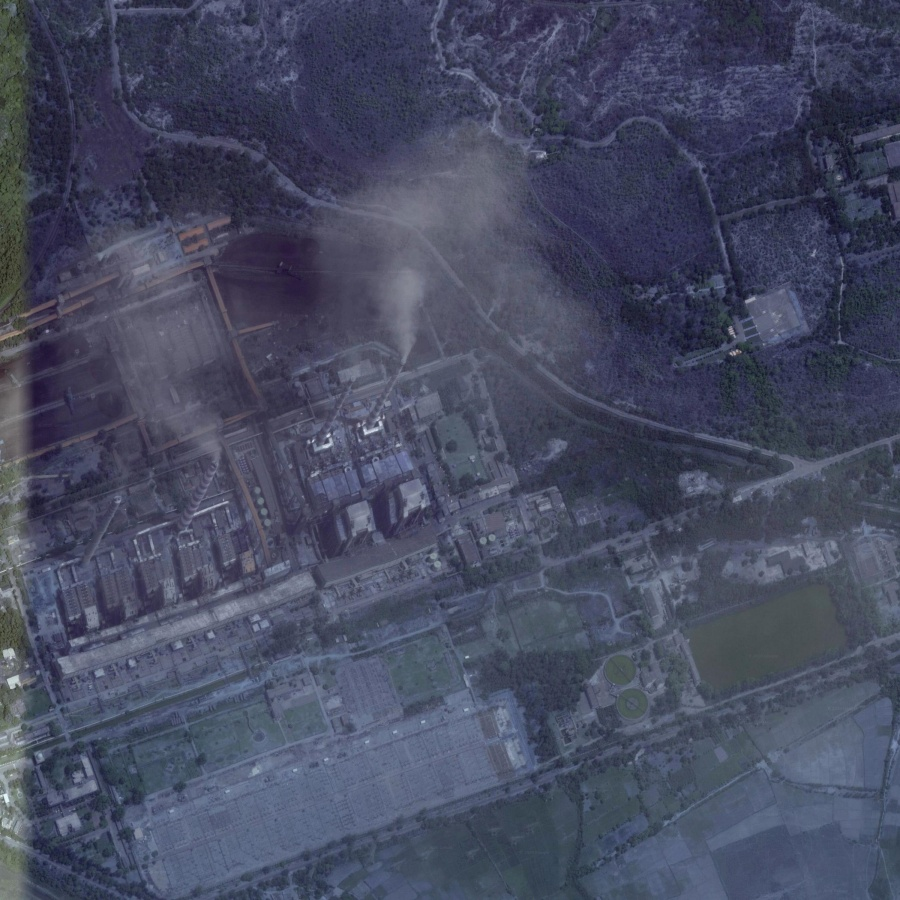PowerPlant: (54, 211, 509, 624), (674, 562, 856, 710)
